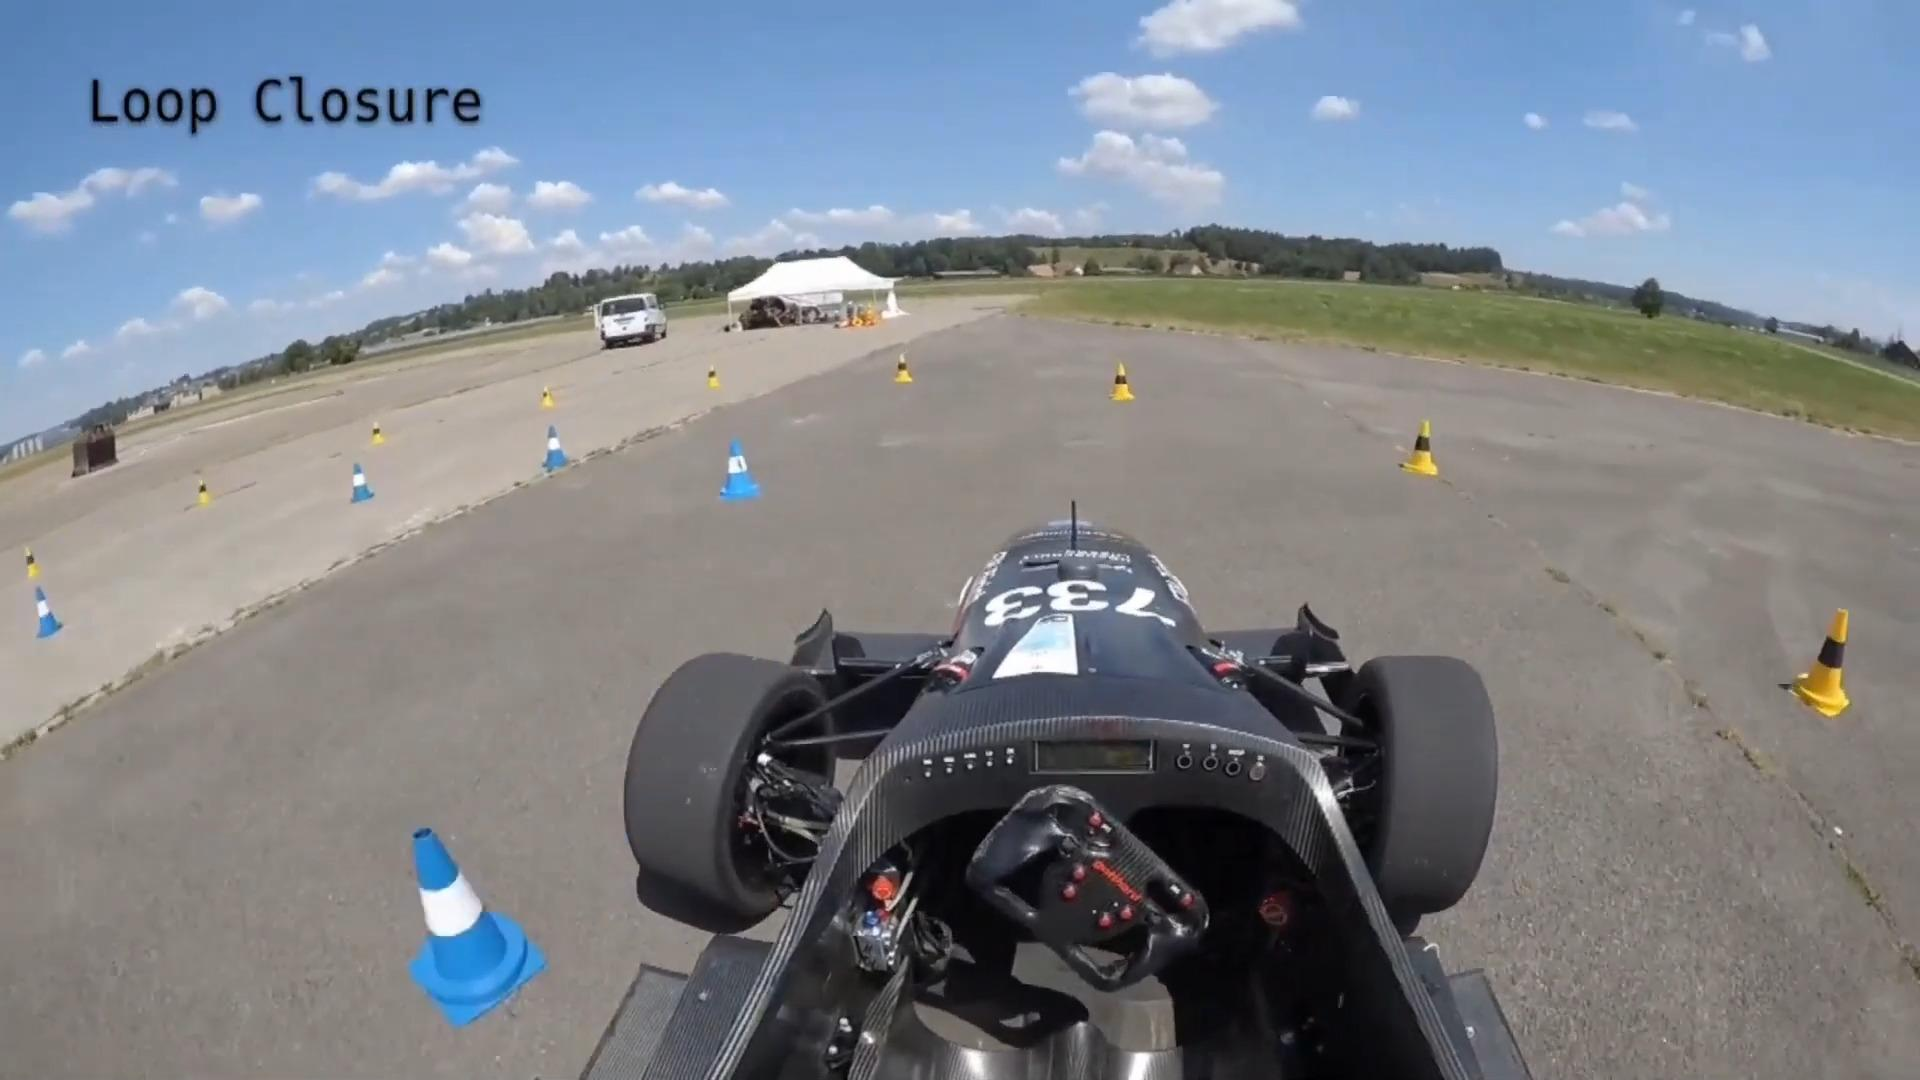blue_cone: (409, 828, 549, 1029), (720, 438, 764, 504), (34, 585, 66, 640), (542, 425, 571, 473), (351, 463, 376, 504)
yellow_cone: (1789, 608, 1854, 715), (1404, 418, 1440, 475), (1110, 361, 1135, 402), (895, 355, 915, 384)
